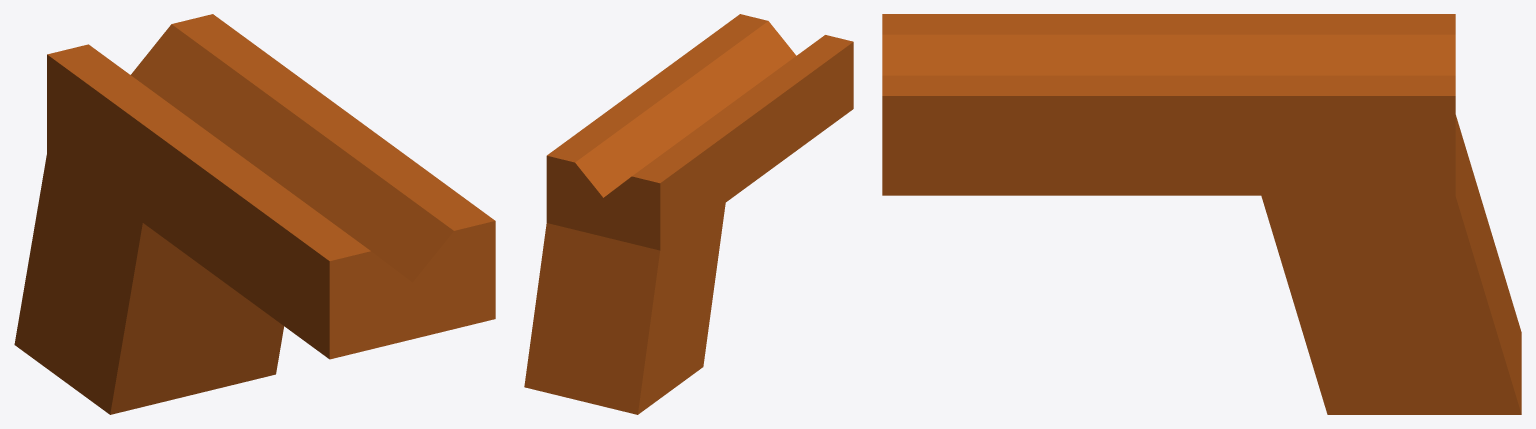
File: Crossbow.obj
The picture shows the model from 3 angles, left to right: view 1: azimuth 30°, elevation 25°; view 2: azimuth 150°, elevation 25°; view 3: azimuth 270°, elevation 25°; orthographic projection. The views are drawn at different scales.
Visible parts, largest first — view 1: Crossbow_0, Crossbow_1; view 2: Crossbow_0, Crossbow_1; view 3: Crossbow_0.
Part boxes in pixels (x1,y1,x2,y2): Crossbow_0: [14, 14, 495, 414]; Crossbow_1: [329, 221, 495, 359]; Crossbow_0: [524, 14, 853, 414]; Crossbow_1: [546, 156, 660, 250]; Crossbow_0: [882, 14, 1521, 414].
Bounding box in the file's own units: 0.1 × 0.1812 × 0.3293.
